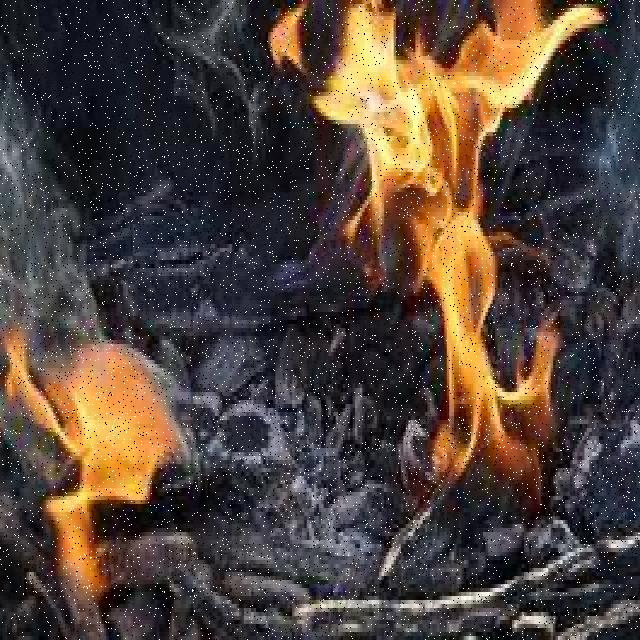fire: (266, 2, 596, 521), (8, 333, 186, 587)
